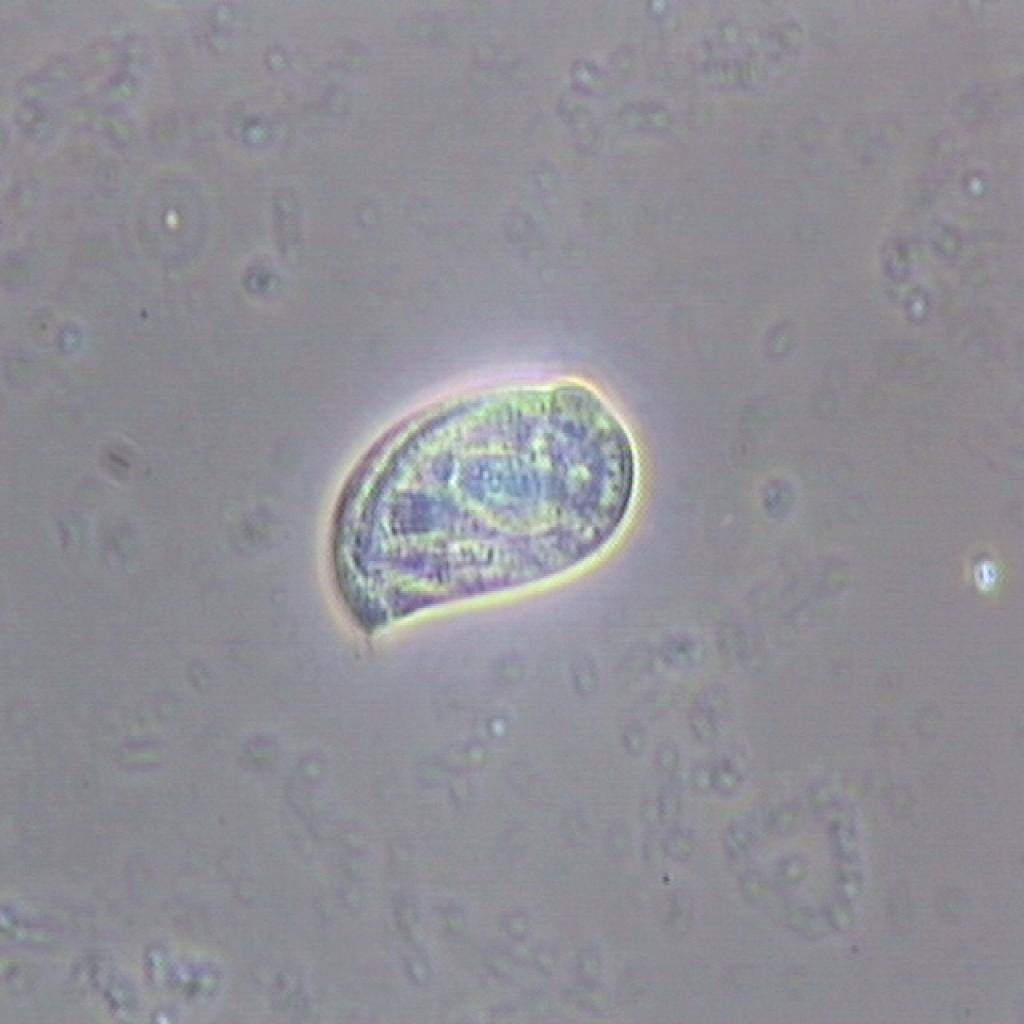Chilodonella: (305, 362, 666, 650)
